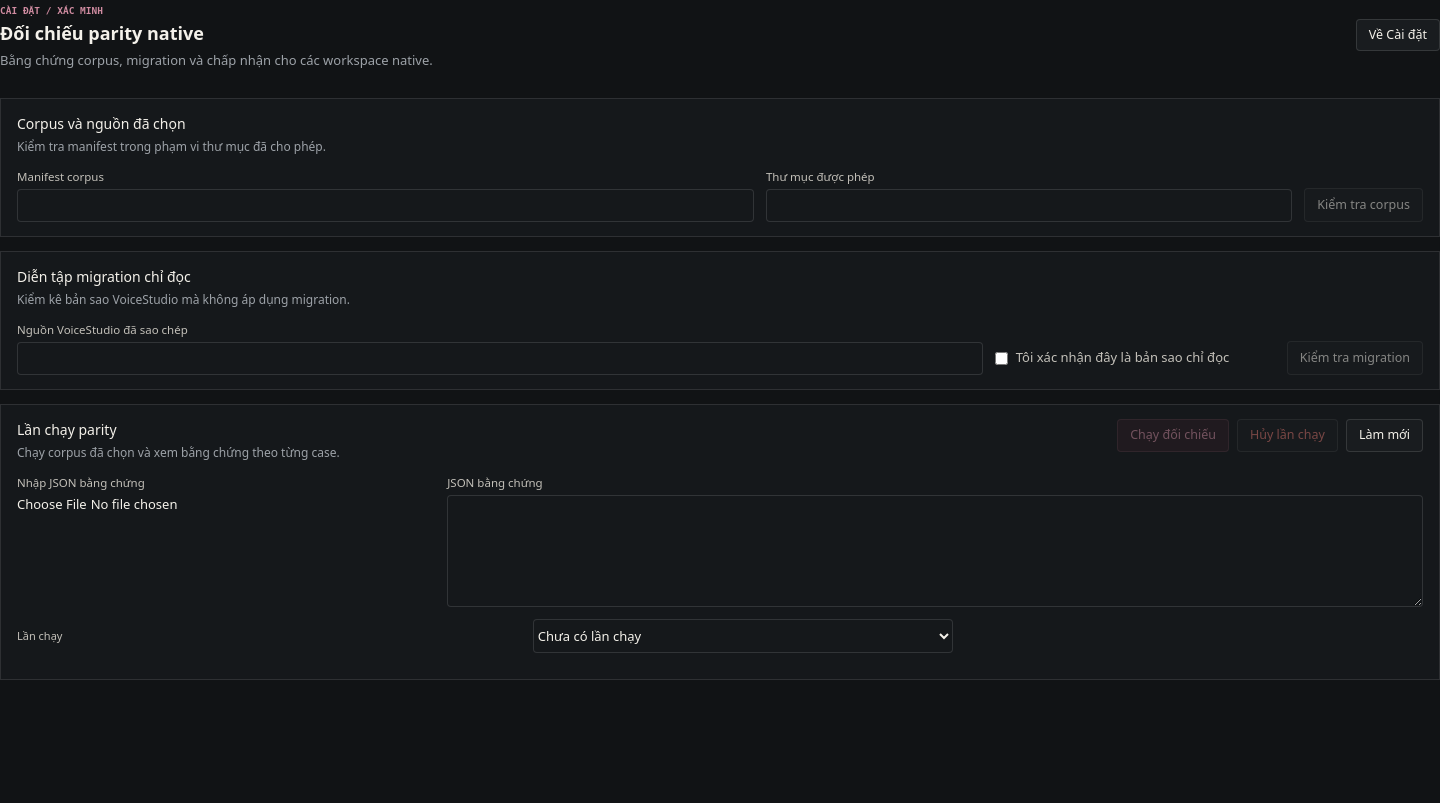
Test case: ParityPage › hides inspection evidence as soon as its exact request inputs change
The image size is (1440, 803).
In the field labelled "Manifest corpus": point(385, 206) [17,189,754,222], type "D:/fixtures/manifest.json"
In the field labelled "Thư mục được phép": point(1029, 206) [766,189,1292,222], type "D:/fixtures"
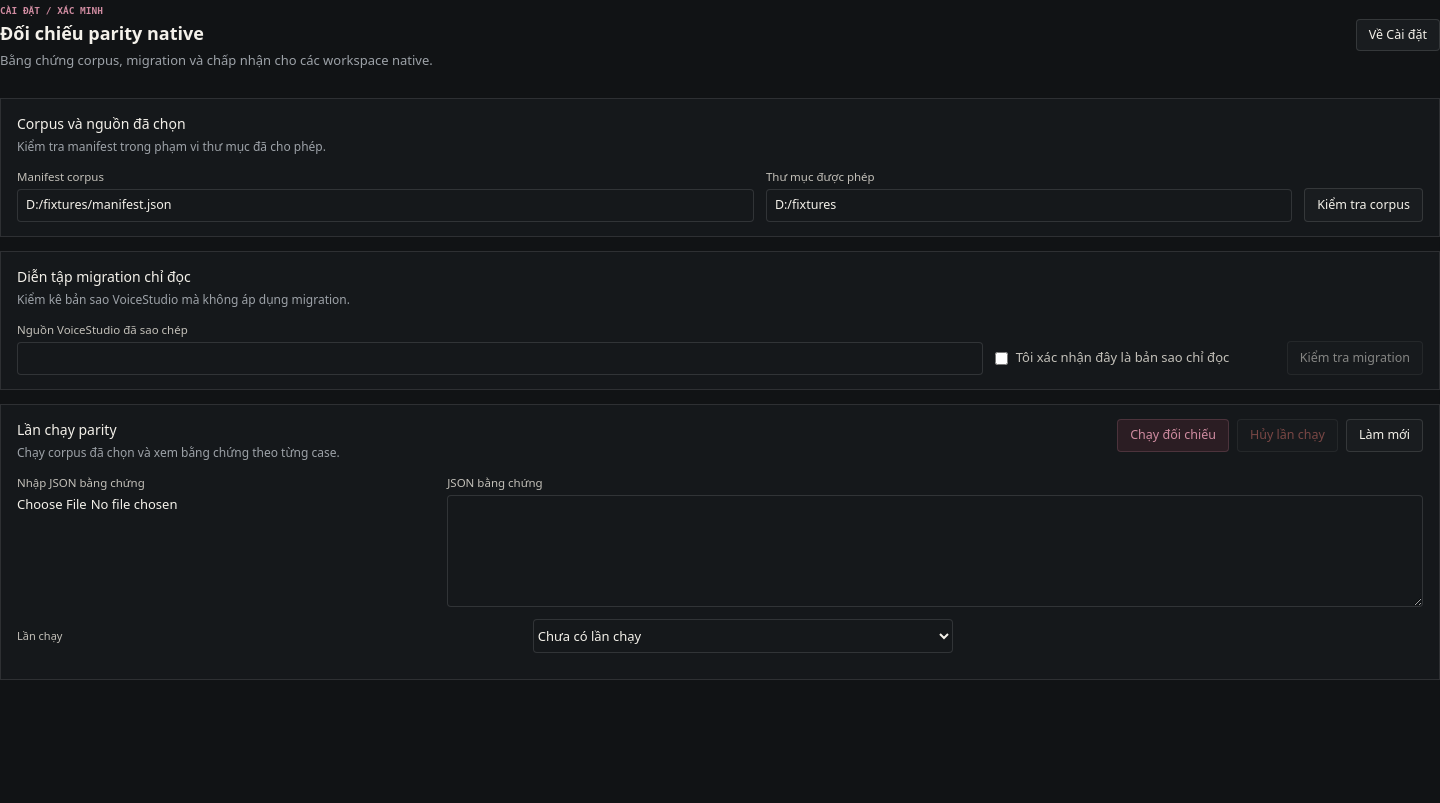
Click the button "Kiểm tra corpus": point(1364, 205) [1304,188,1423,222]
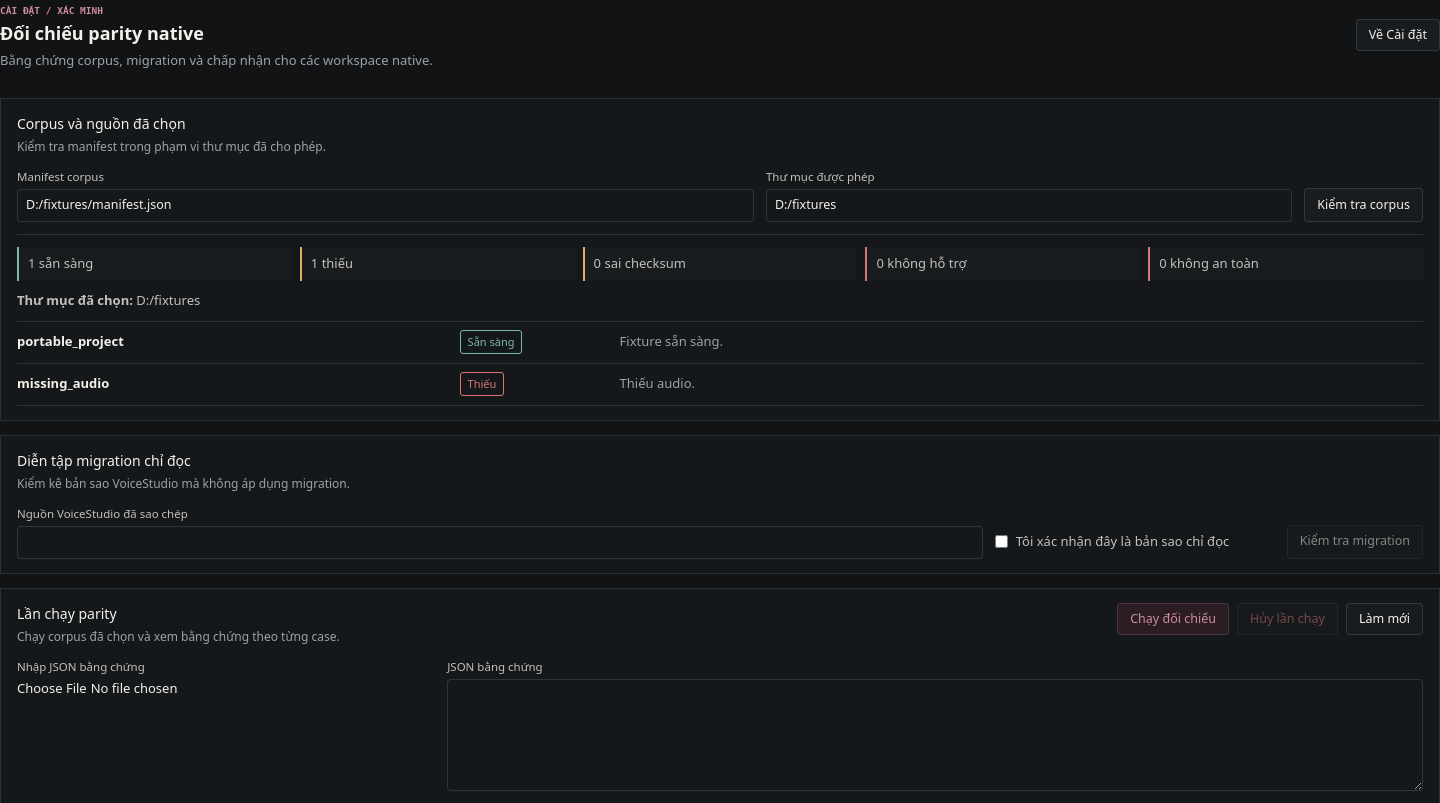
Expected: the text "1 sẵn sàng" is shown, [17,247,292,281]
Expected: the text "D:/fixtures" is shown, [136,291,200,309]
Replace the text in the field labelled "Thư mục được phép" with "D:/different-root": point(1029, 206) [766,189,1292,222]
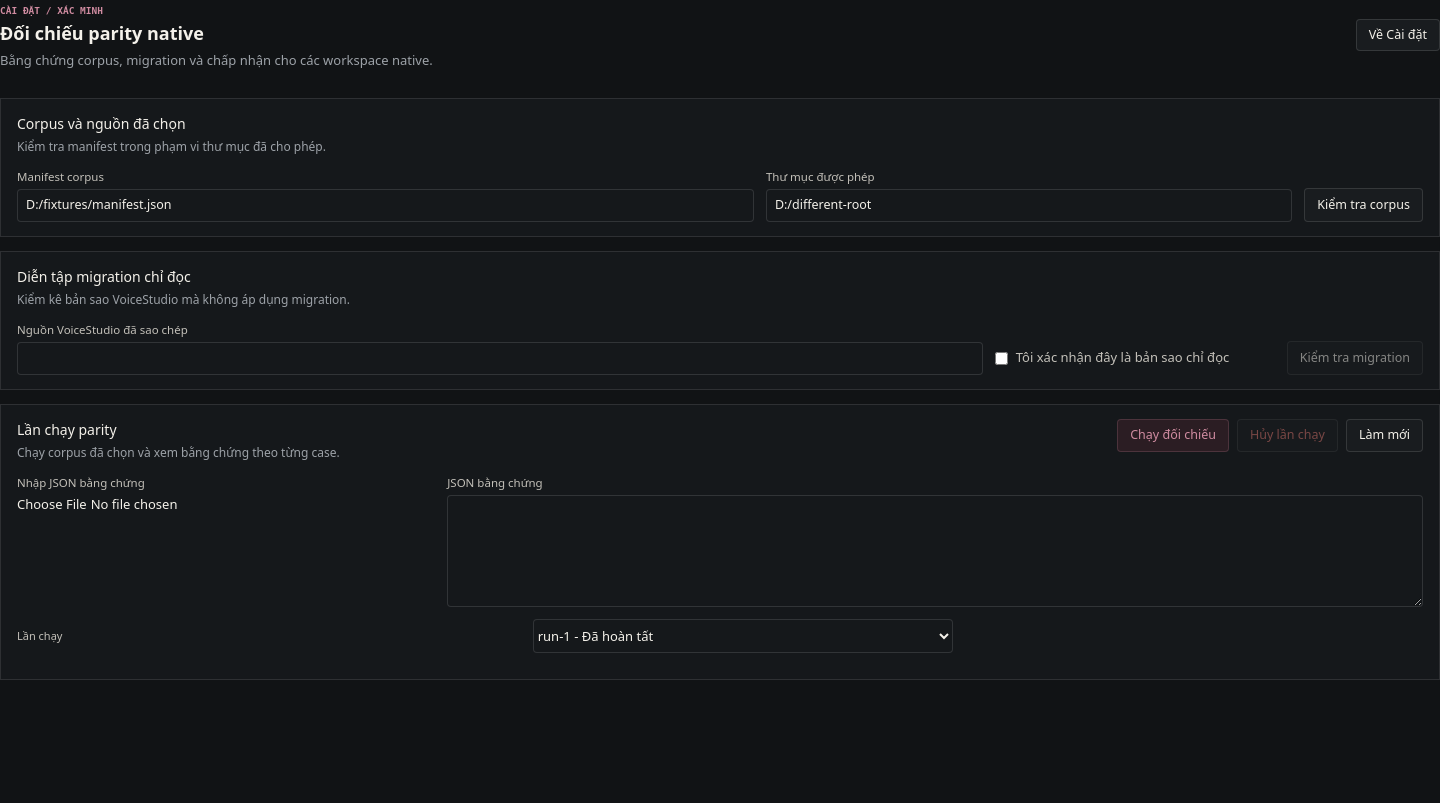
Expected: the text "1 sẵn sàng" is gone
In the field labelled "Nguồn VoiceStudio đã sao chép": point(500, 359) [17,342,983,375], type "D:/copied-voice"
Click the checkbox labelled "Tôi xác nhận đây là bản sao chỉ đọc": point(1001, 358) [995,352,1008,364]
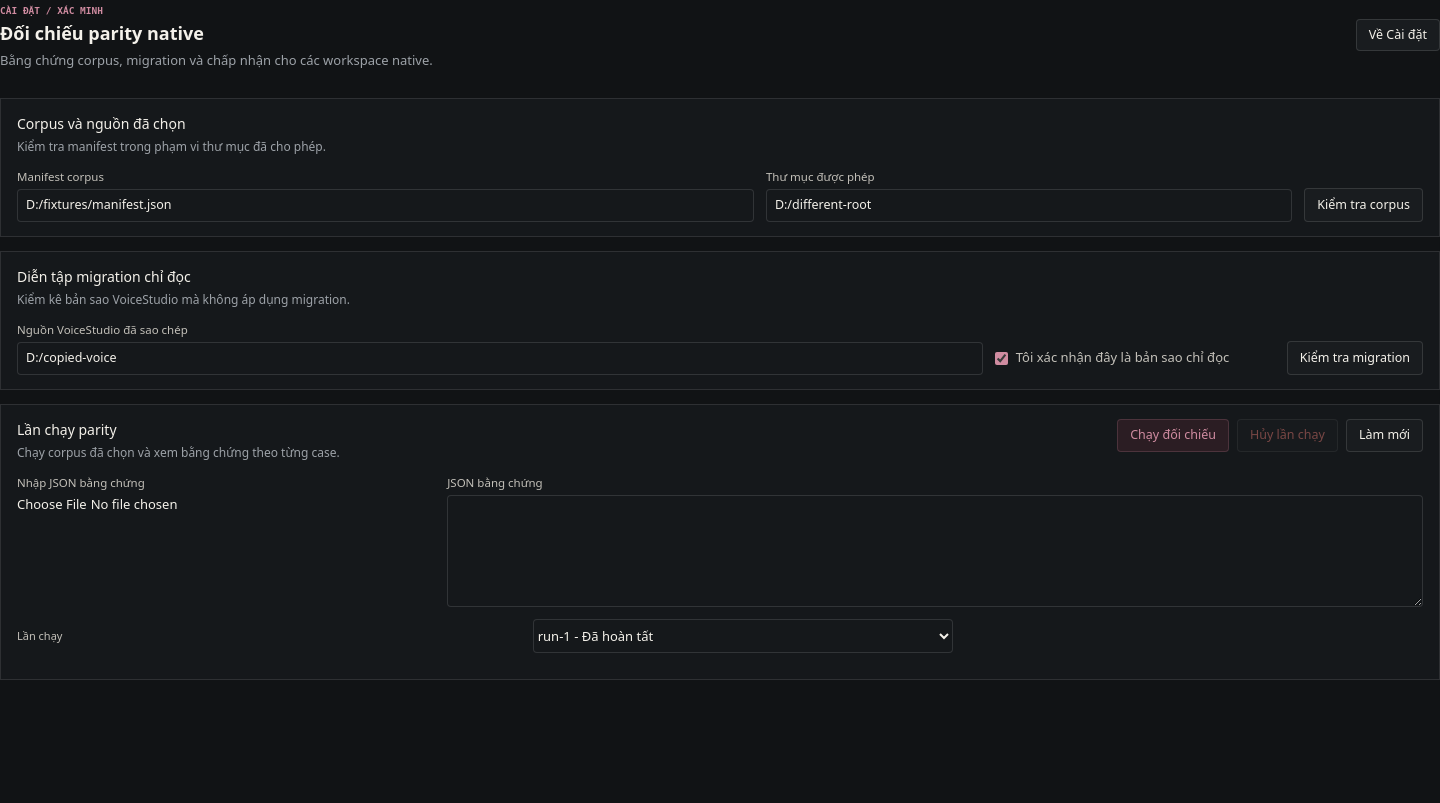
Click the button "Kiểm tra migration": point(1355, 358) [1287,341,1423,375]
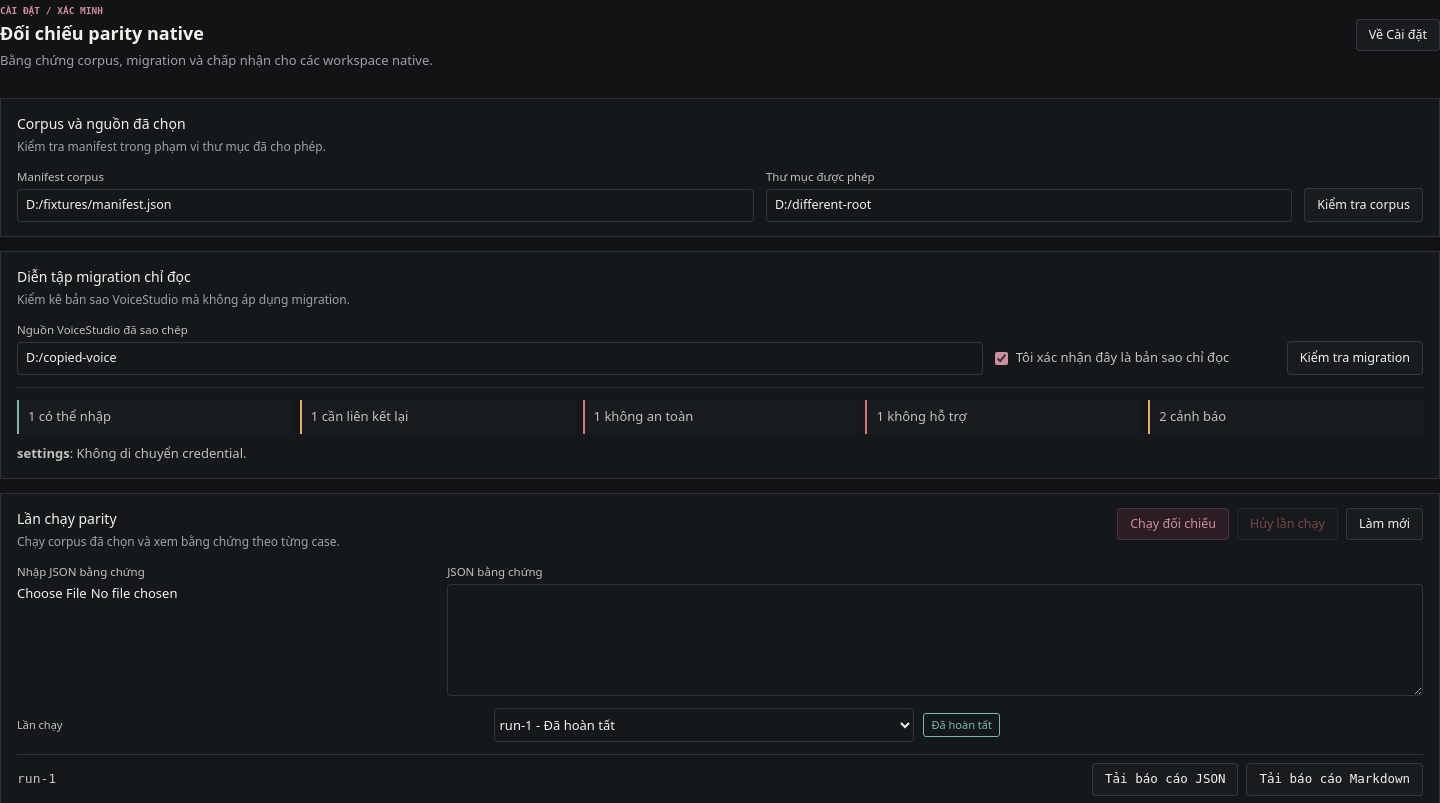
Expected: the text "1 không an toàn" is shown, [583,400,857,434]
Replace the text in the field labelled "Nguồn VoiceStudio đã sao chép" with "D:/another-copy": point(500, 359) [17,342,983,375]
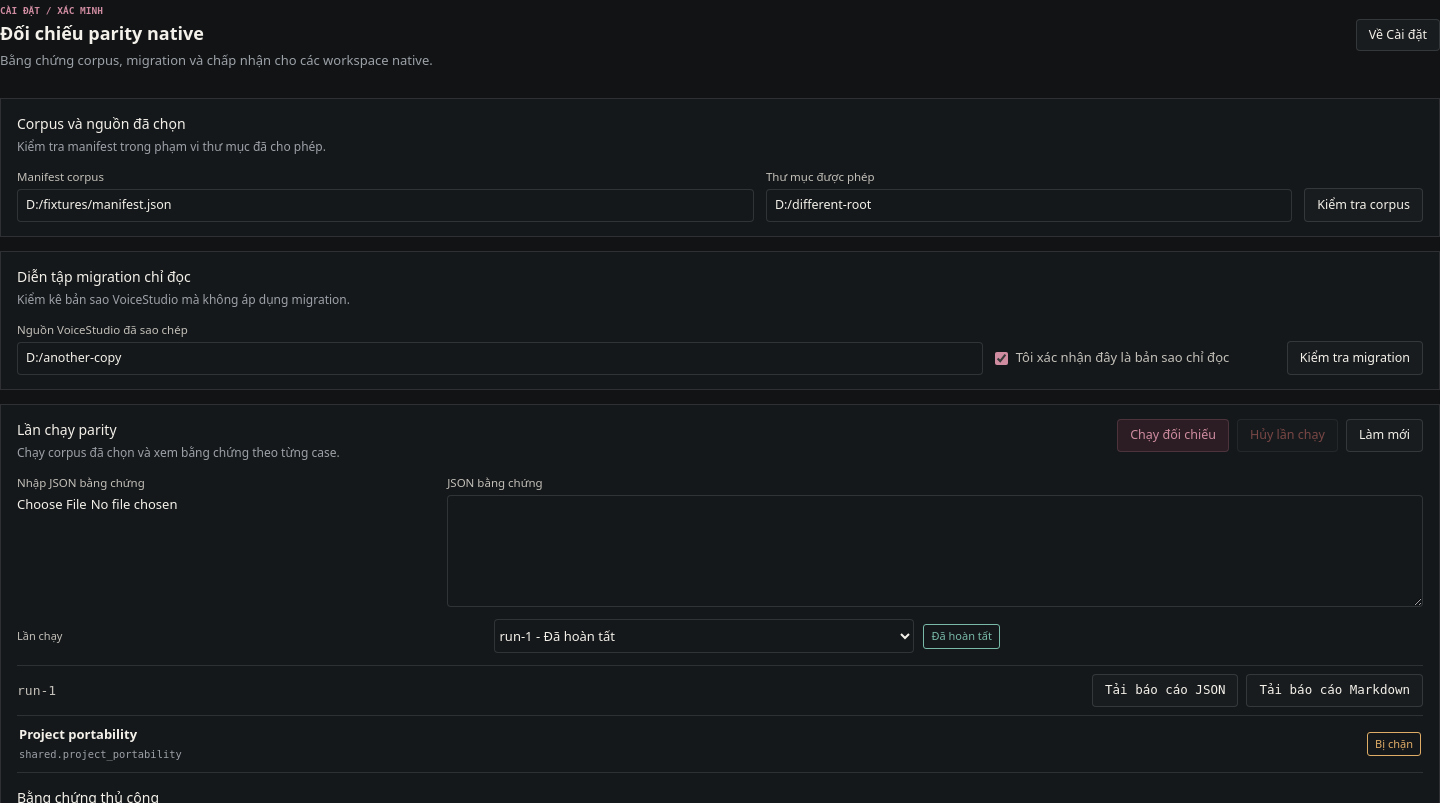
Expected: the text "1 không an toàn" is gone
